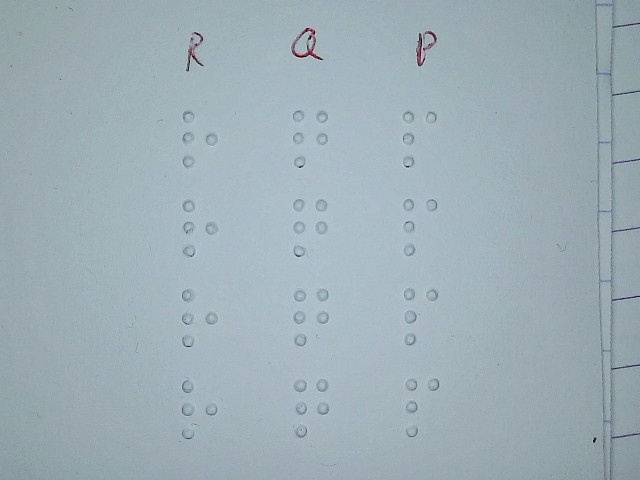P: (400, 107, 439, 170), (401, 195, 440, 258), (401, 284, 440, 347), (403, 375, 442, 438)
Q: (291, 106, 330, 169), (290, 196, 329, 259), (292, 285, 331, 348), (292, 376, 331, 439)
R: (180, 107, 219, 170), (181, 196, 220, 259), (180, 286, 219, 349), (180, 377, 219, 440)
